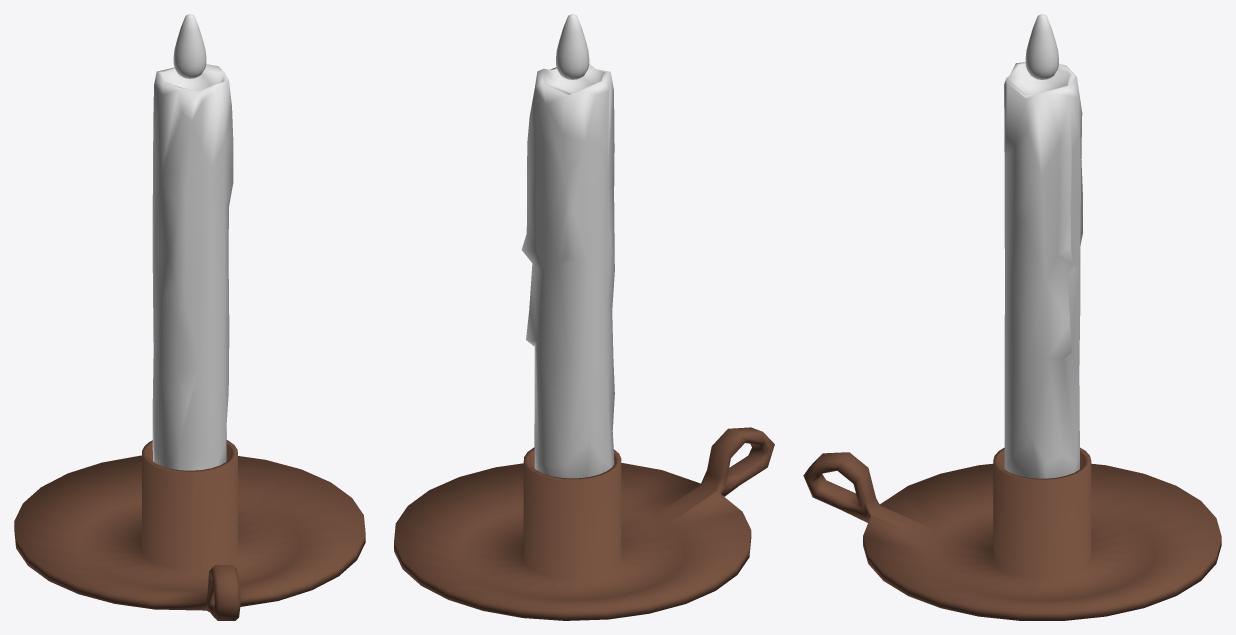
Rendered from candleShadowGame.fbx.
3 renders of one model, left to right at view 1: azimuth 30°, elevation 25°; view 2: azimuth 150°, elevation 25°; view 3: azimuth 270°, elevation 25°, orthographic.
Visible parts, largest first — view 1: Sphere; view 2: Sphere; view 3: Sphere.
Part boxes in pixels (x1,y1,x2,y2): Sphere: (14, 14, 365, 620); Sphere: (394, 14, 774, 620); Sphere: (803, 14, 1221, 620).
Bounding box in the file's own units: 537 × 946 × 630.
